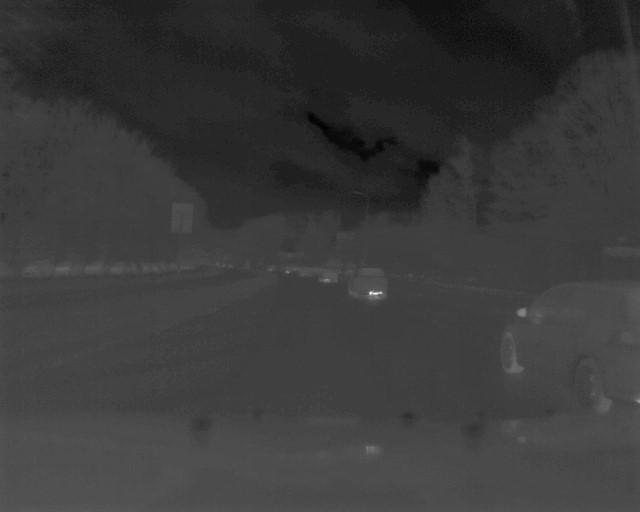car: (493, 272, 636, 415), (341, 260, 394, 305), (316, 267, 339, 285)
